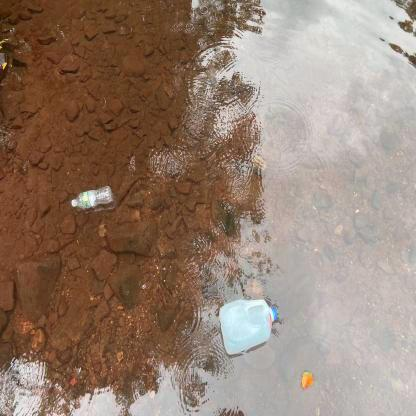Plastic: (217, 293, 282, 360), (67, 183, 116, 211)
